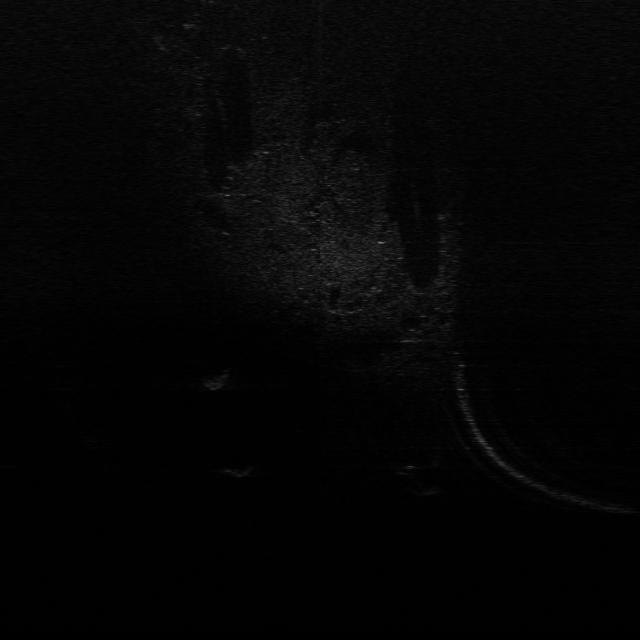cube: (218, 462, 257, 480)
square cage: (197, 368, 232, 393)
tyre: (392, 463, 441, 497)
